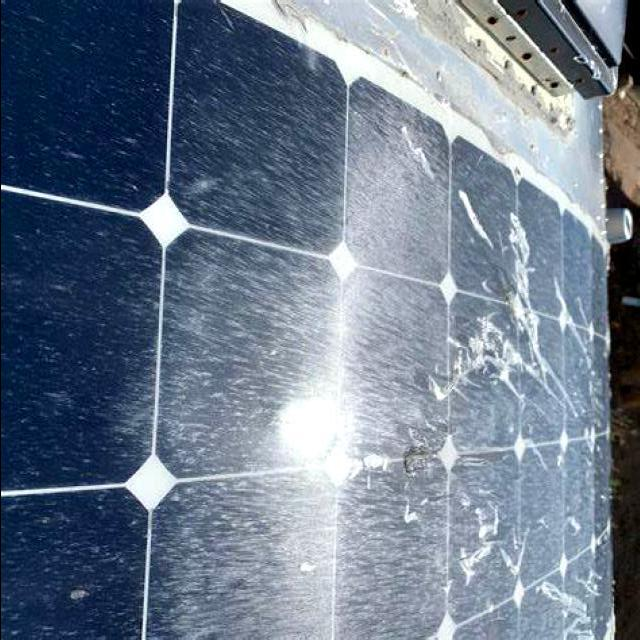soiled: (3, 6, 613, 637)
